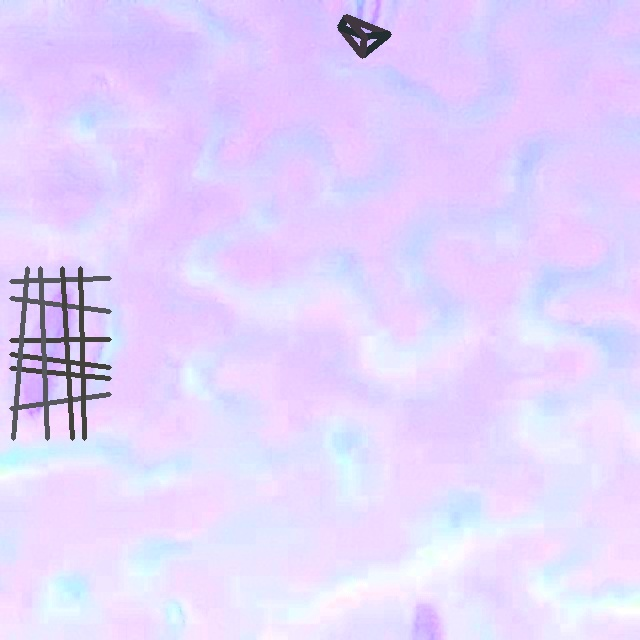open: (9, 266, 111, 440), (337, 14, 391, 58)
